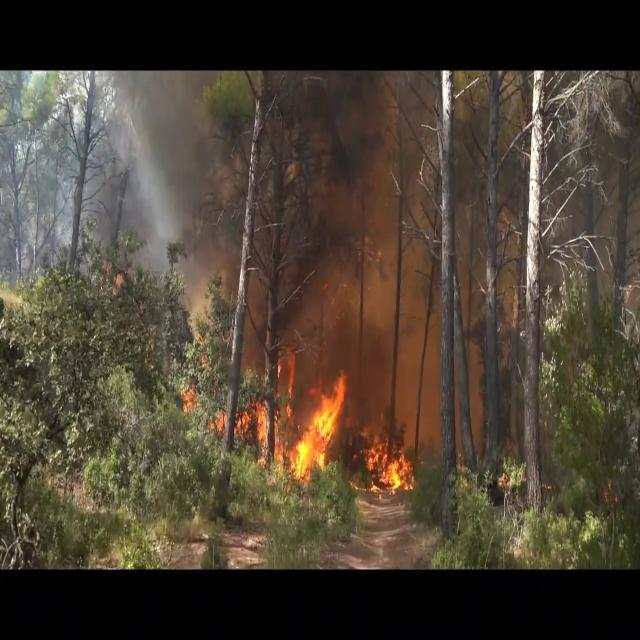Fire: (242, 356, 349, 486), (362, 432, 416, 494)
Smoke: (2, 70, 442, 291), (278, 74, 442, 346)
